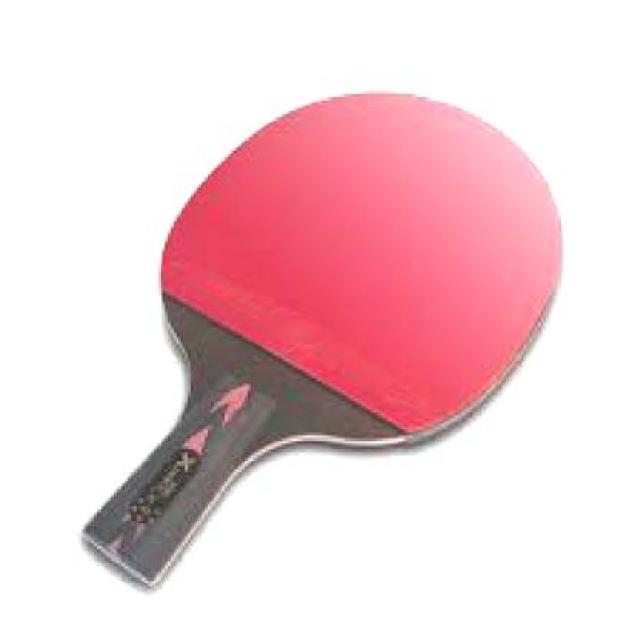table_tennis_racket: (159, 80, 573, 465)
